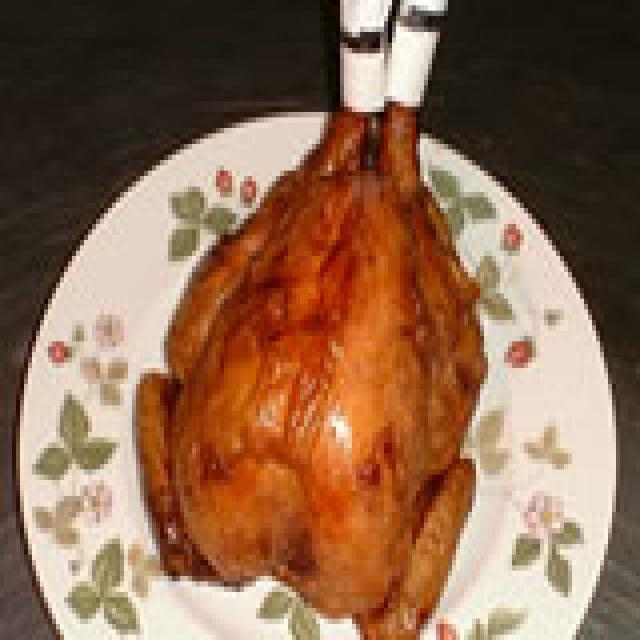Chicken roast: (140, 107, 464, 619)
